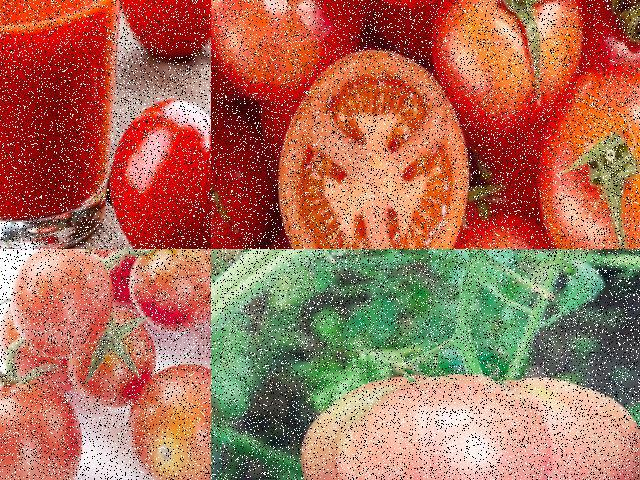tomato: (283, 354, 639, 479), (529, 58, 639, 248), (434, 0, 580, 130), (109, 87, 210, 248), (0, 249, 122, 369), (211, 0, 364, 93), (0, 369, 99, 479), (133, 366, 210, 479), (77, 313, 162, 414), (138, 249, 210, 342), (569, 0, 639, 87), (121, 0, 210, 67), (85, 249, 197, 293), (431, 219, 589, 248)
